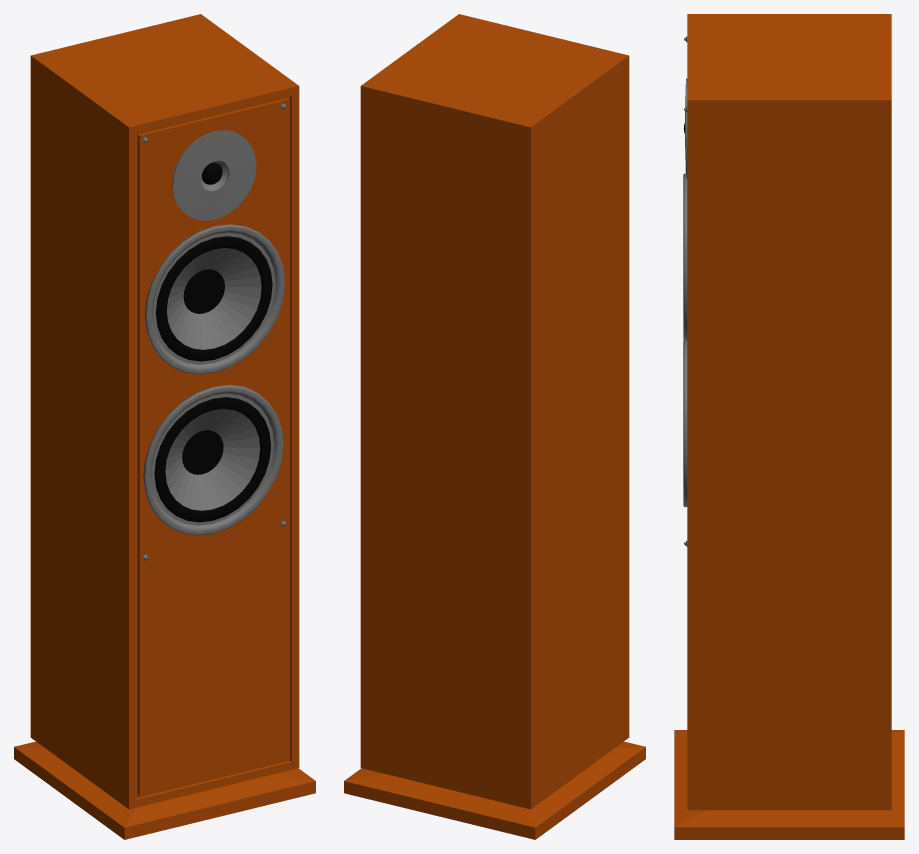
File: 스피커_주_큰.FBX
3 views of the same model, side by side, from view 1: azimuth 30°, elevation 25°; view 2: azimuth 150°, elevation 25°; view 3: azimuth 270°, elevation 25° (orthographic). The views are drawn at different scales.
Visible parts, largest first — view 1: Box394, Circle082, Circle081, Circle079; view 2: Box394; view 3: Box394, Circle082, Circle081.
Boxes of the visible parts, x1=… form: Box394: x1=14, y1=14, x2=315, y2=839; Circle082: x1=143, y1=384, x2=283, y2=535; Circle081: x1=144, y1=224, x2=284, y2=374; Circle079: x1=172, y1=130, x2=256, y2=220; Box394: x1=344, y1=14, x2=645, y2=839; Box394: x1=674, y1=14, x2=904, y2=839; Circle082: x1=683, y1=340, x2=687, y2=507; Circle081: x1=683, y1=173, x2=687, y2=340.
Bounding box in the file's own units: 248 × 875 × 248.
